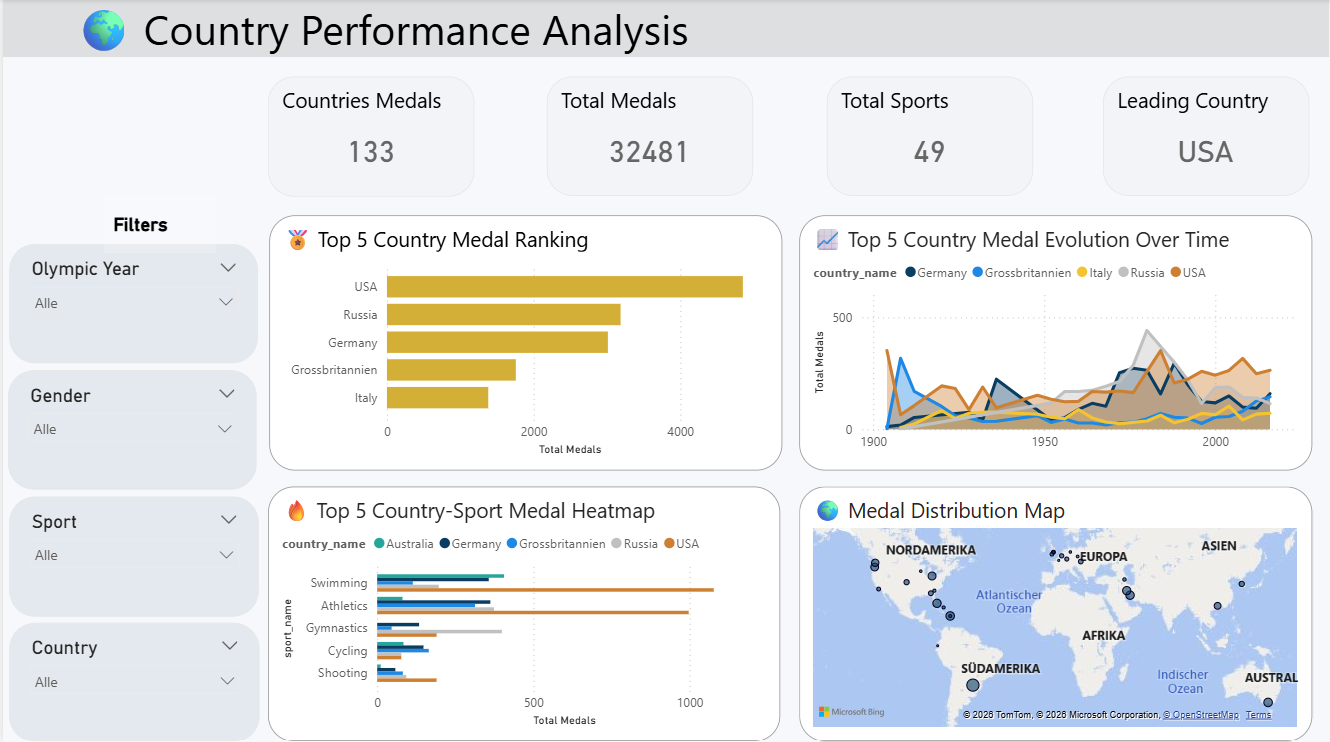

The dashboard page shown, as its layout file describes it:
{"tool":"powerbi","page":{"name":"Country Performance","canvas":[1280,720],"ordinal":2},"visuals":[{"type":"shape","box":[0,0,1280.4,55.9],"z":0},{"type":"barChart","title":"🏅 Top 5 Country Medal Ranking","fields":{"Category":["dim_countries.country_name"],"Y":["DAX_Measures.Total Medals"]},"box":[256.8,209,495,246],"z":1000},{"type":"areaChart","title":"📈 Top 5 Country Medal Evolution Over Time","fields":{"Category":["dim_date.year"],"Y":["DAX_Measures.Total Medals"],"Series":["dim_countries.country_name"]},"box":[768,209,495,246],"z":2000},{"type":"clusteredBarChart","title":"🔥 Top 5 Country-Sport Medal Heatmap","fields":{"Category":["dim_sports.sport_name"],"Y":["DAX_Measures.Total Medals"],"Series":["dim_countries.country_name"]},"box":[256,470.5,494.6,246.1],"z":3000},{"type":"map","title":"🌍 Medal Distribution Map","fields":{"Category":["dim_countries.country_name","dim_sports.sport_name"],"Size":["DAX_Measures.Total Medals"]},"box":[768,471,495,246],"z":4000},{"type":"slicer","fields":{"Values":["dim_date.year"]},"box":[5.7,236.1,240.4,115.2],"z":5000},{"type":"slicer","title":"Filter","fields":{"Values":["dim_sports.sport_name"]},"box":[5.8,480.1,240.9,116.2],"z":6000},{"type":"slicer","title":"Filter","fields":{"Values":["dim_athletes.sex"]},"box":[5.1,358.4,240.4,115.2],"z":7000},{"type":"slicer","title":"Filter","fields":{"Values":["dim_countries.country_name"]},"box":[5.7,601.6,241.8,115.2],"z":8000},{"type":"shape","box":[98,190.5,107.8,54.6],"z":9000},{"type":"card","title":"Total Medals","fields":{"Values":["DAX_Measures.Total Medals"]},"box":[525,75,199.1,115.4],"z":10000},{"type":"card","title":"Countries Medals","fields":{"Values":["DAX_Measures.Countries With Medals"]},"box":[256,75,199.3,116.2],"z":11000},{"type":"card","title":"Total Sports","fields":{"Values":["DAX_Measures.Total Sports"]},"box":[795,75,199.1,115.4],"z":12000},{"type":"card","title":"Leading Country","fields":{"Values":["DAX_Measures.Leading Country"]},"box":[1061.9,75,199.1,115.4],"z":13000}]}

Visuals, with their boxes in screenshot pixels (x1, y1, x2, y2), scaled from the page's 1280x720 canvas onto the 1330x742 screenshot:
shape: x1=0, y1=0, x2=1329, y2=58
"🏅 Top 5 Country Medal Ranking" barChart: x1=267, y1=215, x2=781, y2=469
"📈 Top 5 Country Medal Evolution Over Time" areaChart: x1=798, y1=215, x2=1312, y2=469
"🔥 Top 5 Country-Sport Medal Heatmap" clusteredBarChart: x1=266, y1=485, x2=780, y2=738
"🌍 Medal Distribution Map" map: x1=798, y1=485, x2=1312, y2=739
slicer - dim_date.year: x1=6, y1=243, x2=256, y2=362
"Filter" slicer: x1=6, y1=495, x2=256, y2=615
"Filter" slicer: x1=5, y1=369, x2=255, y2=488
"Filter" slicer: x1=6, y1=620, x2=257, y2=739
shape: x1=102, y1=196, x2=214, y2=253
"Total Medals" card: x1=546, y1=77, x2=752, y2=196
"Countries Medals" card: x1=266, y1=77, x2=473, y2=197
"Total Sports" card: x1=826, y1=77, x2=1033, y2=196
"Leading Country" card: x1=1103, y1=77, x2=1310, y2=196
